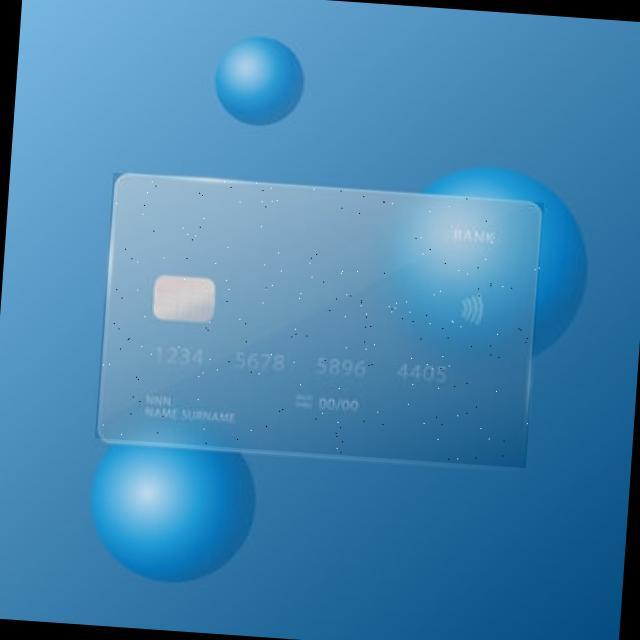payment_card: (95, 170, 542, 469)
